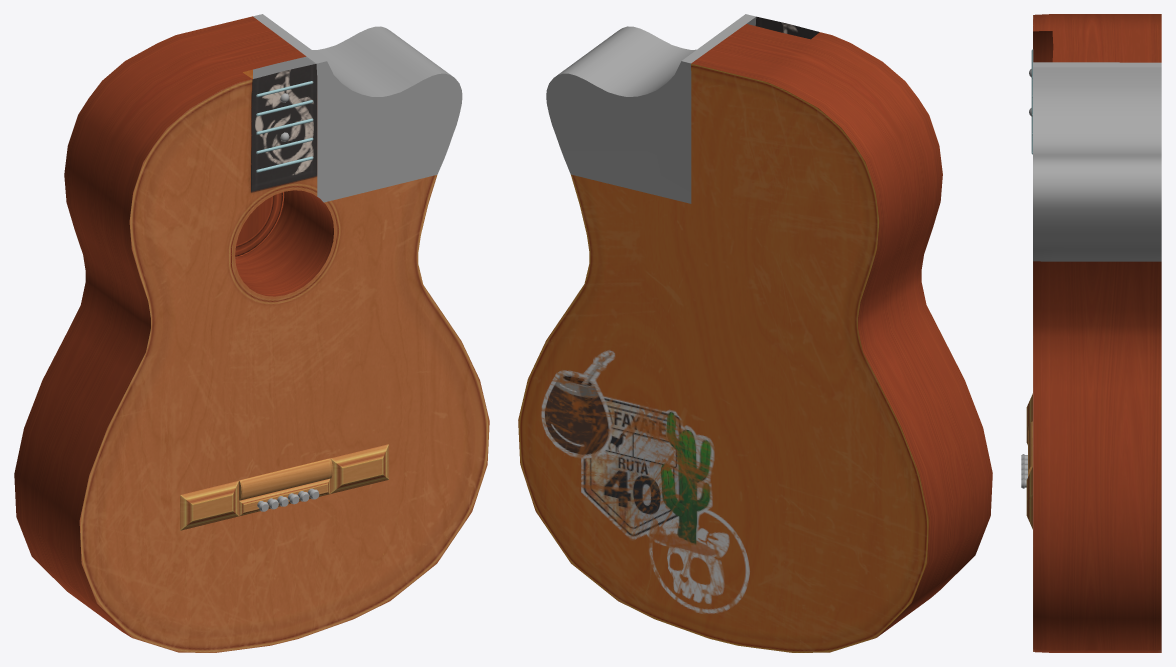
File: Body.fbx
The picture shows the model from 3 angles, left to right: view 1: azimuth 30°, elevation 25°; view 2: azimuth 150°, elevation 25°; view 3: azimuth 270°, elevation 25°; orthographic projection.
Parts seen in each view (by area): view 1: polySurface158; view 2: polySurface158; view 3: polySurface158.
Part boxes in pixels (x1,y1,x2,y2): polySurface158: [14, 14, 489, 652]; polySurface158: [518, 14, 992, 652]; polySurface158: [1021, 14, 1161, 652].
Size of the model in its own units: 47.2 by 62.69 by 13.99.
Materials: 2 (1 with a texture image).
